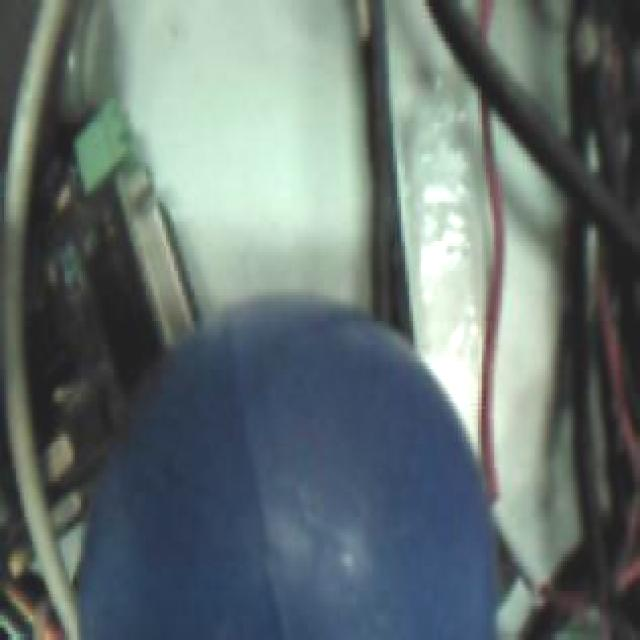BallPurple: (75, 289, 500, 640)
